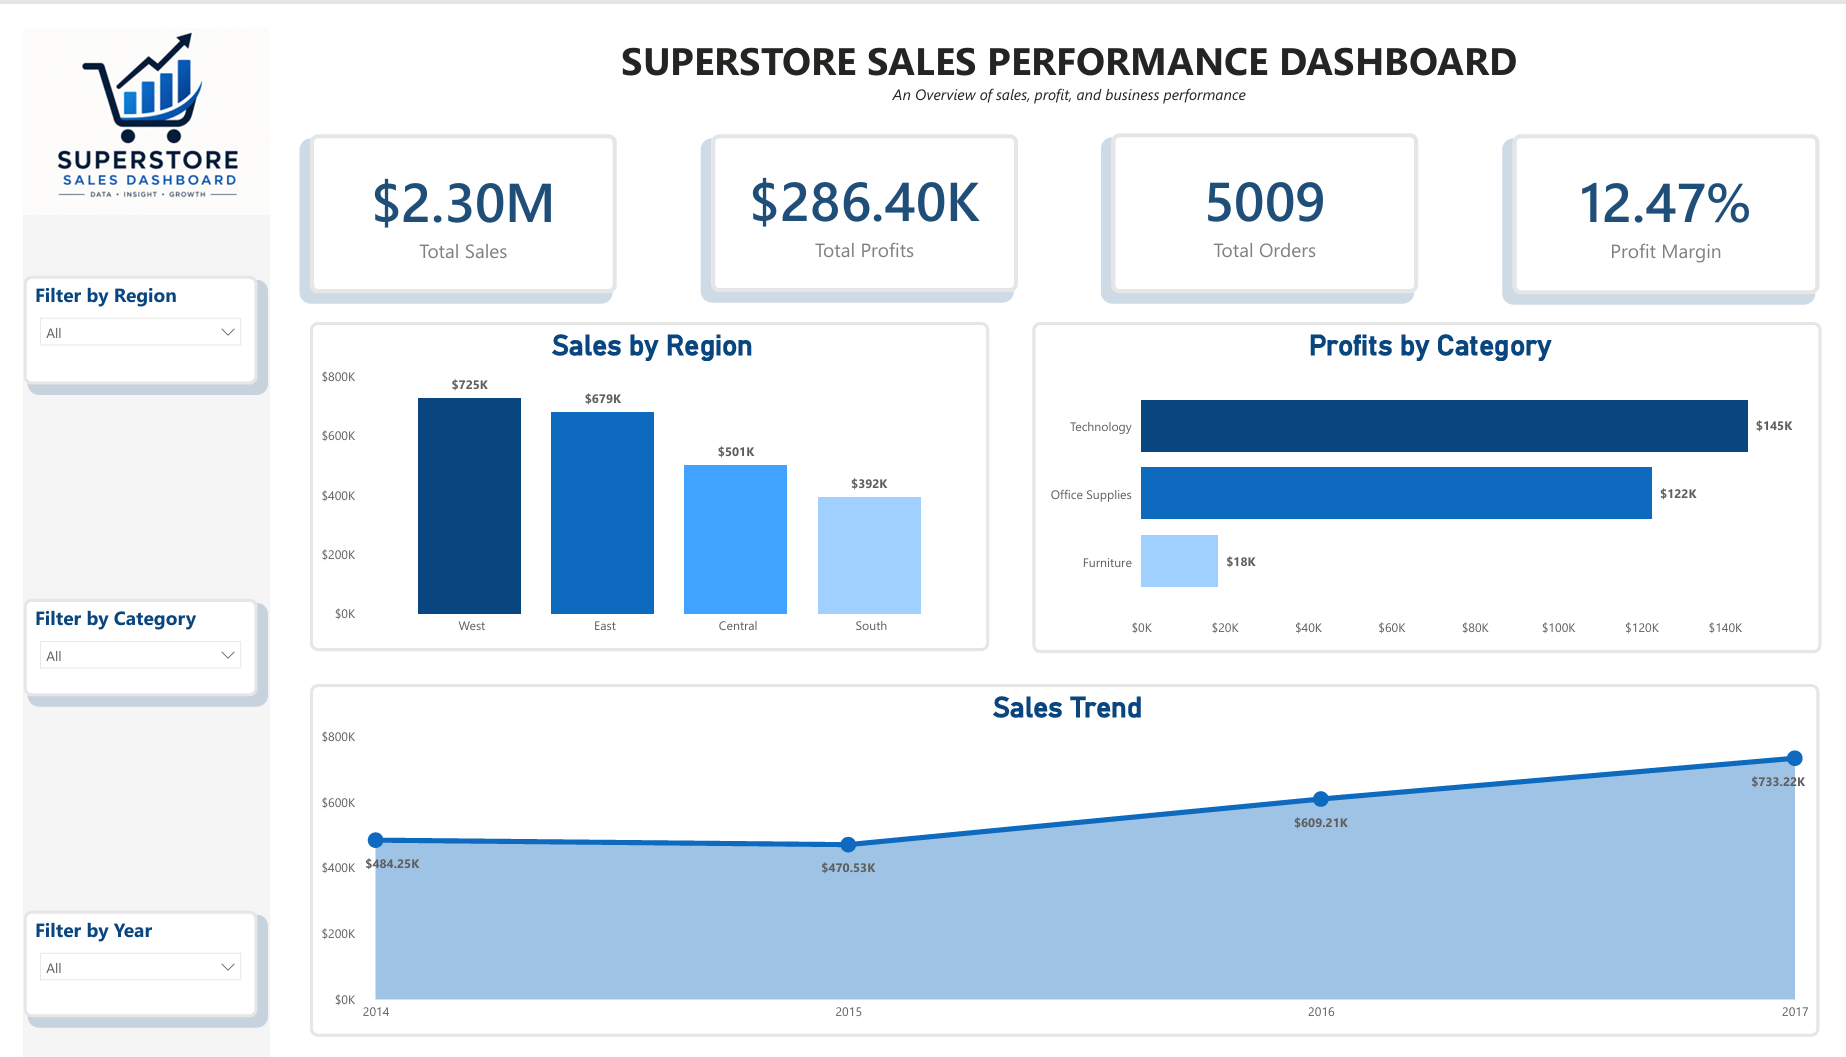

The dashboard page shown, as its layout file describes it:
{"tool":"powerbi","page":{"name":"Executive Overview","canvas":[1780,1008],"ordinal":0},"visuals":[{"type":"shape","box":[0.6,0.7,1779.4,1007.3],"z":0},{"type":"shape","box":[0,0,1779.4,1007.3],"z":1000},{"type":"shape","box":[0,0,240,1006.5],"z":2000},{"type":"cardVisual","fields":{"Data":["Sample - Superstore.Total Sales"]},"box":[278.6,103.2,299.6,155.1],"z":3000},{"type":"textbox","box":[259,0,1520.3,117.9],"z":4000},{"type":"cardVisual","fields":{"Data":["Sample - Superstore.Total Profits"]},"box":[644.3,661.2,296.9,157.9],"z":5000},{"type":"lineChart","title":" Sales Trend","fields":{"Y":["Sample - Superstore.Total Sales"],"Category":["Sample - Superstore.Order Date.Variation.Date Hierarchy.Year","Sample - Superstore.Order Date.Variation.Date Hierarchy.Quarter","Sample - Superstore.Order Date.Variation.Date Hierarchy.Month","Sample - Superstore.Order Date.Variation.Date Hierarchy.Day"]},"box":[278.9,638.7,1470.8,343.9],"z":6000},{"type":"clusteredColumnChart","title":" Sales by Region","fields":{"Y":["Sample - Superstore.Total Sales"],"Category":["Sample - Superstore.Region"]},"box":[278.6,286.4,662.2,320.6],"z":7000},{"type":"clusteredBarChart","title":" Profits by Category","fields":{"Y":["Sample - Superstore.Total Profits"],"Category":["Sample - Superstore.Category"]},"box":[983.4,286.4,768.6,322.2],"z":8000},{"type":"slicer","title":"Filter by Region","fields":{"Values":["Sample - Superstore.Region"]},"box":[0,240.6,228,105.9],"z":9000},{"type":"cardVisual","fields":{"Data":["Sample - Superstore.Total Profit"]},"box":[669.7,103.4,299,153.7],"z":10000},{"type":"slicer","title":"Filter by Category","fields":{"Values":["Sample - Superstore.Category"]},"box":[0,555.7,228,95.2],"z":11000},{"type":"cardVisual","fields":{"Data":["Sample - Superstore.Total Orders"]},"box":[1060.3,102.2,299,155.8],"z":12000},{"type":"slicer","title":"Filter by Year","fields":{"Values":["Sample - Superstore.Order Date"]},"box":[0,860.1,228,104.1],"z":13000},{"type":"cardVisual","fields":{"Data":["Sample - Superstore.Profit Margin"]},"box":[1450.8,103.2,299,155.8],"z":14000},{"type":"image","box":[0,0,240,181.1],"z":15000}]}

Visuals, with their boxes in screenshot pixels (x1, y1, x2, y2), scaled from the page's 1780x1008 canvas onto the 1846x1057 screenshot:
shape: rect(1, 1, 1845, 1056)
shape: rect(0, 0, 1845, 1056)
shape: rect(0, 0, 249, 1055)
cardVisual - Sample - Superstore.Total Sales: rect(289, 108, 600, 271)
textbox: rect(269, 0, 1845, 124)
cardVisual - Sample - Superstore.Total Profits: rect(668, 693, 976, 859)
" Sales Trend" lineChart: rect(289, 670, 1815, 1030)
" Sales by Region" clusteredColumnChart: rect(289, 300, 976, 637)
" Profits by Category" clusteredBarChart: rect(1020, 300, 1817, 638)
"Filter by Region" slicer: rect(0, 252, 236, 363)
cardVisual - Sample - Superstore.Total Profit: rect(695, 108, 1005, 270)
"Filter by Category" slicer: rect(0, 583, 236, 683)
cardVisual - Sample - Superstore.Total Orders: rect(1100, 107, 1410, 271)
"Filter by Year" slicer: rect(0, 902, 236, 1011)
cardVisual - Sample - Superstore.Profit Margin: rect(1505, 108, 1815, 272)
image: rect(0, 0, 249, 190)
